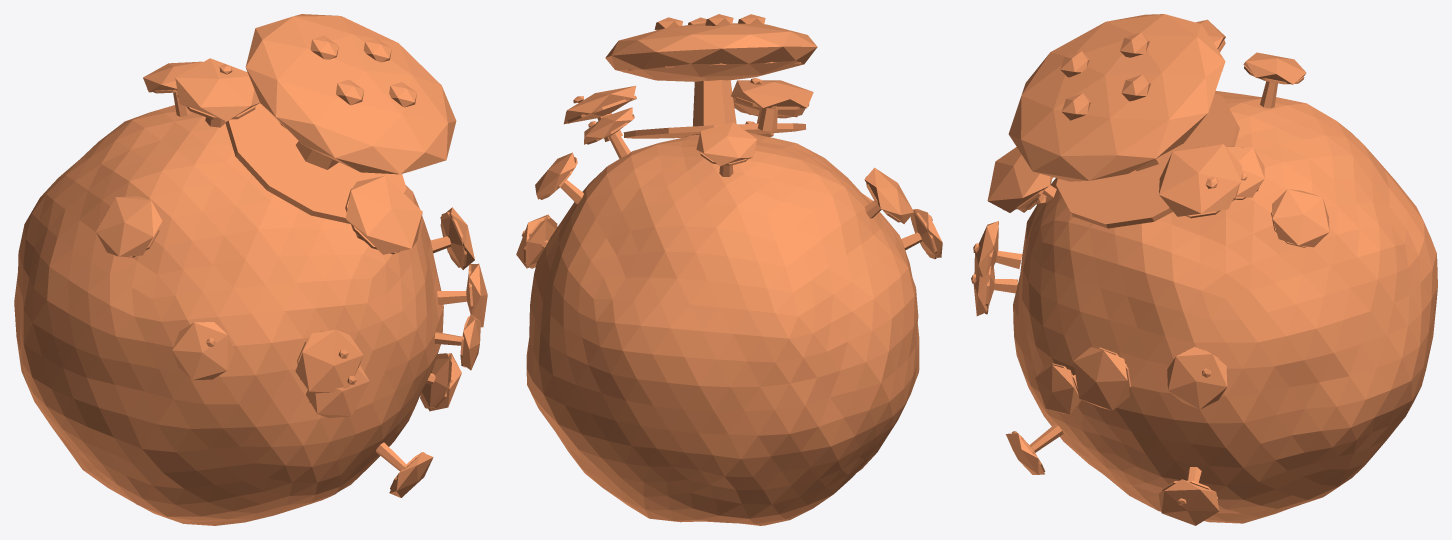
Rendered from Mushroom_01.fbx.
3 views of the same model, side by side, from view 1: azimuth 30°, elevation 25°; view 2: azimuth 150°, elevation 25°; view 3: azimuth 270°, elevation 25° (orthographic). The views are drawn at different scales.
Visible parts, largest first — view 1: Mushroom_01; view 2: Mushroom_01; view 3: Mushroom_01.
Boxes of the visible parts, left/top/right/bottom form: Mushroom_01: left=14, top=14, right=487, bottom=525; Mushroom_01: left=516, top=14, right=942, bottom=525; Mushroom_01: left=971, top=14, right=1437, bottom=525.
Size of the model in its own units: 6.69 by 7.56 by 6.57.
